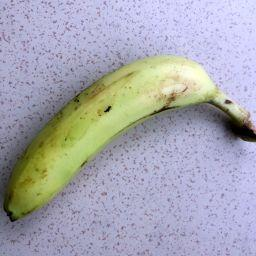Banana Ripe: (3, 54, 256, 221)
